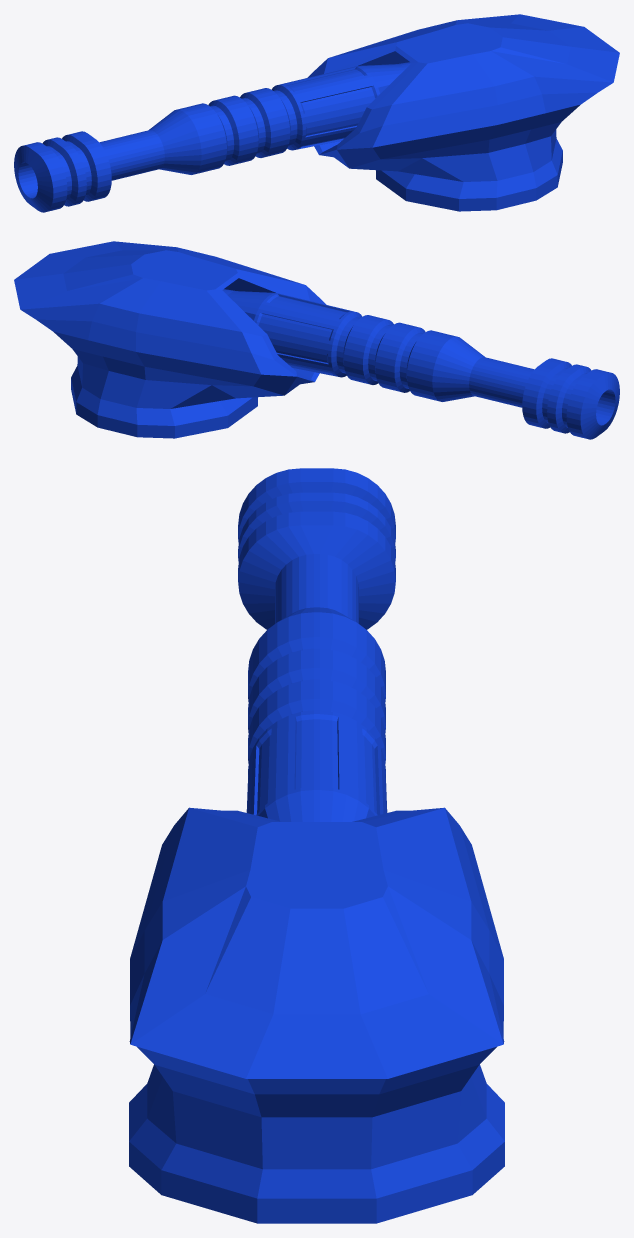
The model's file is PLAYER_UnitLight_Gun_01_2023-10-28.fbx.
3 renders of one model, top to bottom at view 1: azimuth 30°, elevation 25°; view 2: azimuth 150°, elevation 25°; view 3: azimuth 270°, elevation 25°, orthographic. The views are drawn at different scales.
Parts seen in each view (by area): view 1: LU.003; view 2: LU.003; view 3: LU.003.
Part boxes in pixels (x1,y1,x2,y2): LU.003: [14, 14, 619, 212]; LU.003: [14, 241, 619, 439]; LU.003: [129, 468, 504, 1223].
Size of the model in its own units: 1.98 by 0.4346 by 0.5601.
